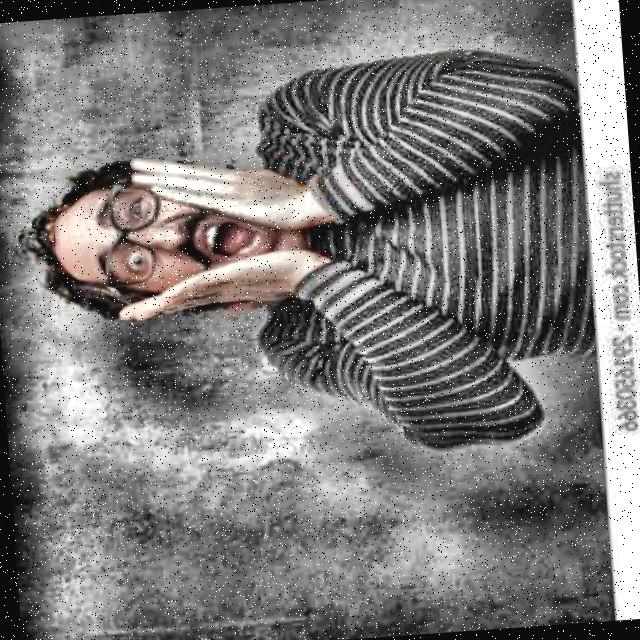fear: (25, 140, 337, 344)
